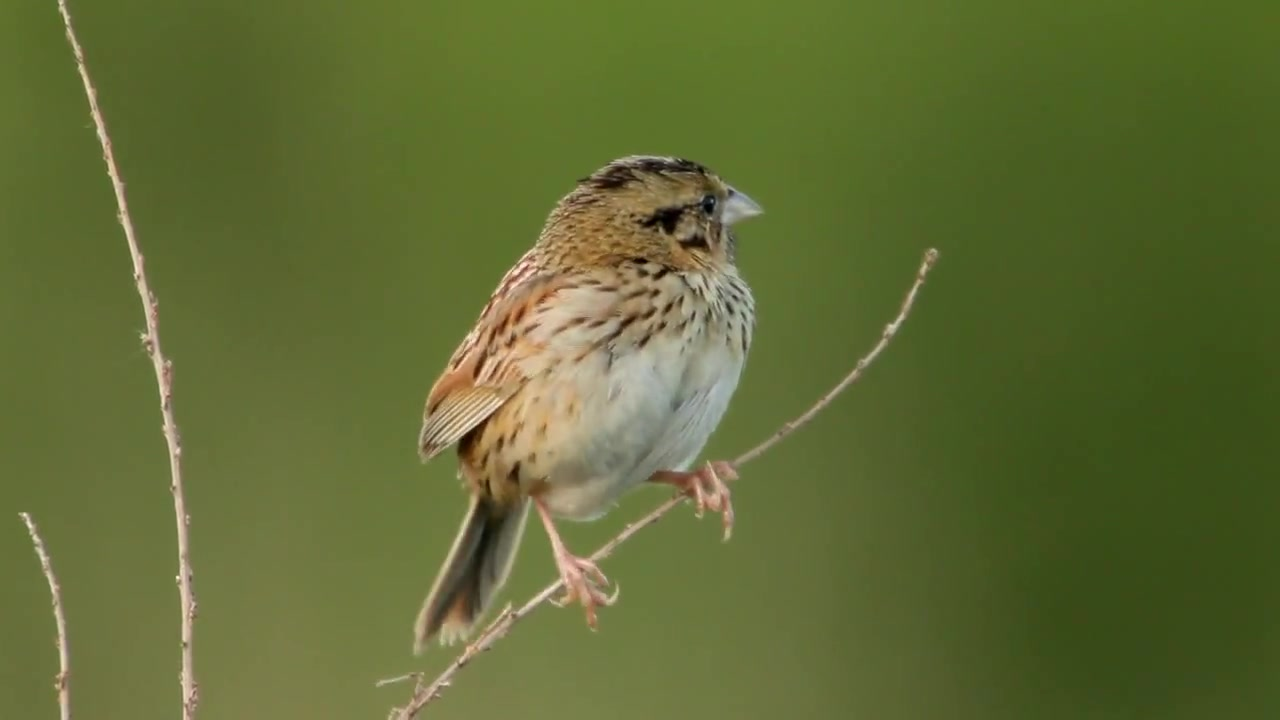bird: (412, 156, 768, 661)
